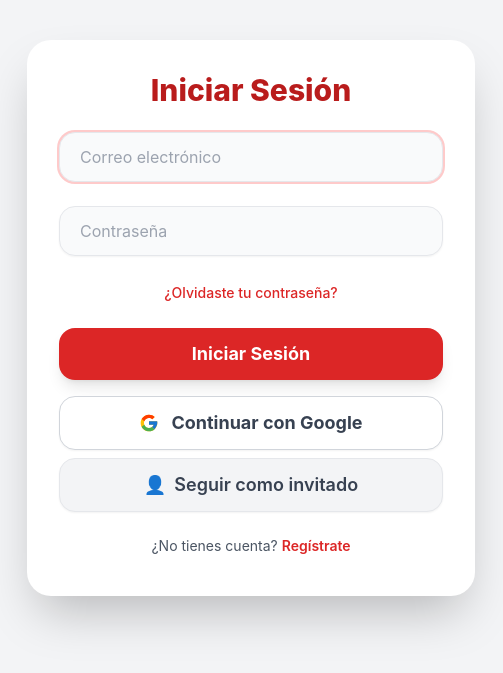
Scenario: Auth Component › handles Google sign in
Click the button "Continuar con Google": (251,423) [59, 396, 443, 450]
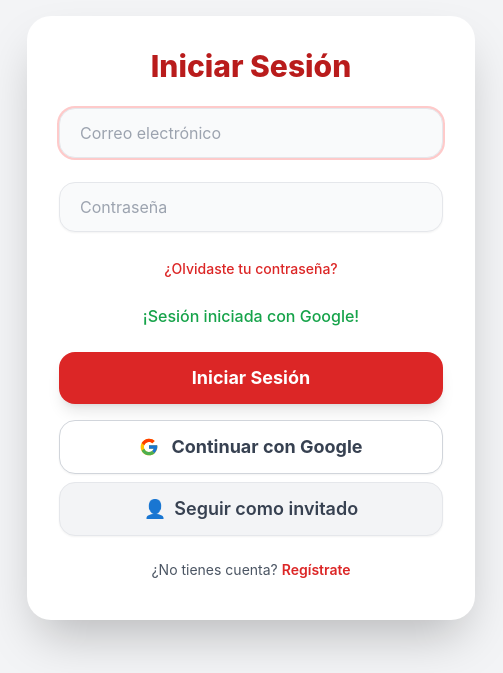
Check: the text "¡Sesión iniciada con Google!" is shown, box [143, 306, 359, 326]
